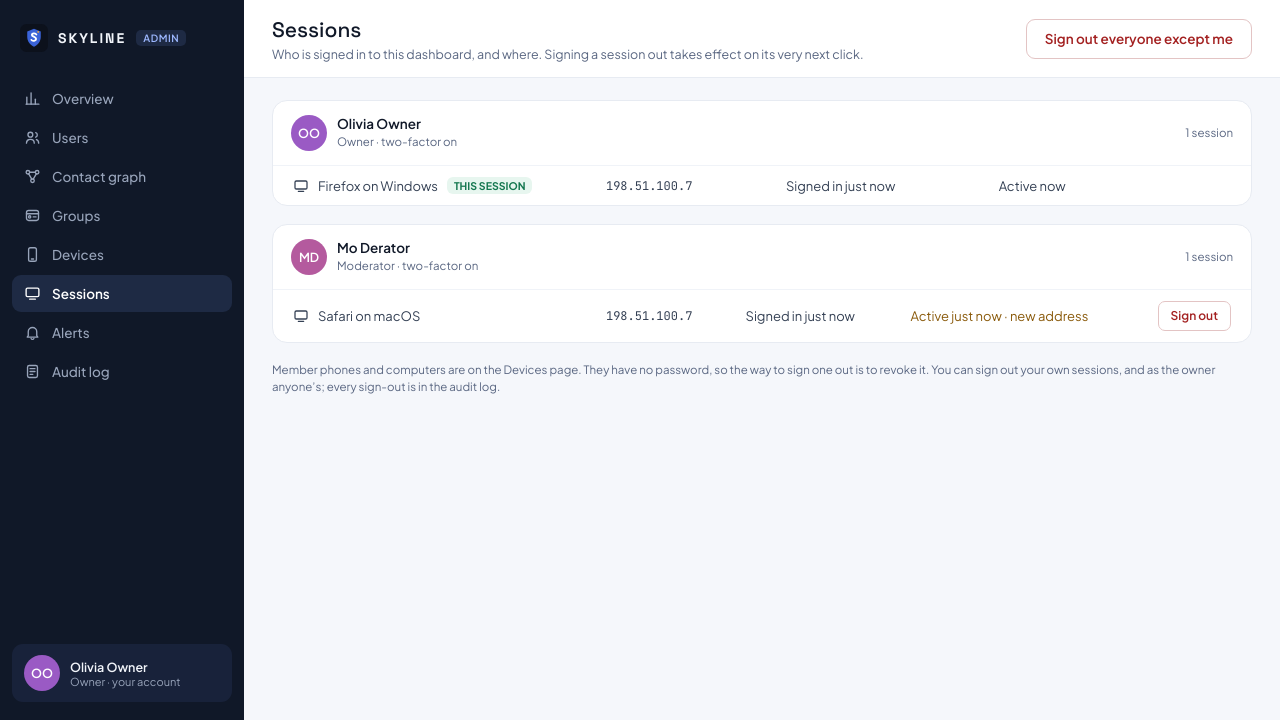
Test: sessions (board 39) › the owner signs out another operator’s session, but never the one in use
The image size is (1280, 720).
Expected: the text "THIS SESSION" is shown, 447,177 -> 532,194
Expected: the text "Active just now · new address" is shown, 890,290 -> 1131,342
Click the button with aria-label "Sign out Mo Derator's Safari on macOS" at {"x": 1194, "y": 316}, box 1158,301 -> 1231,331
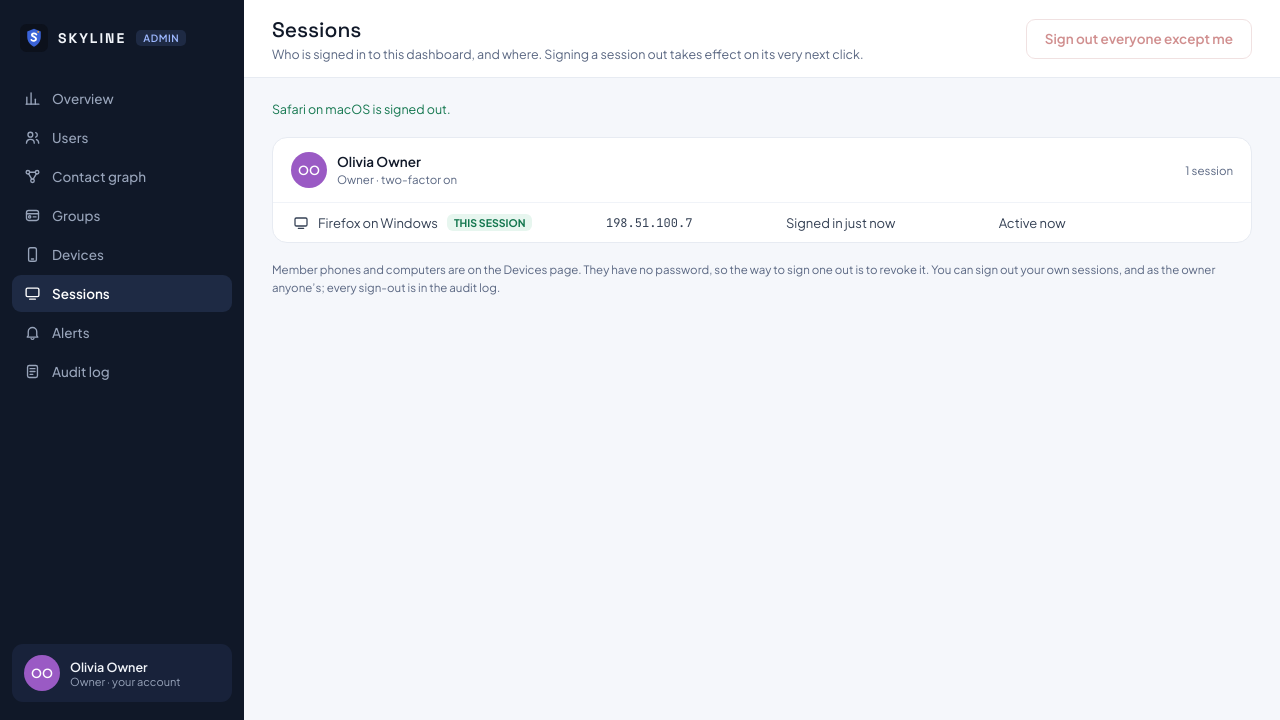
Expected: the text "Safari on macOS is signed out." is shown, 272,101 -> 450,117
